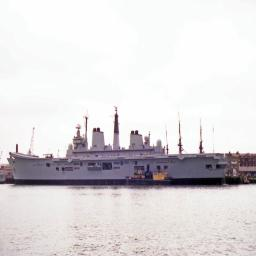Portanaves: (7, 103, 231, 188)
